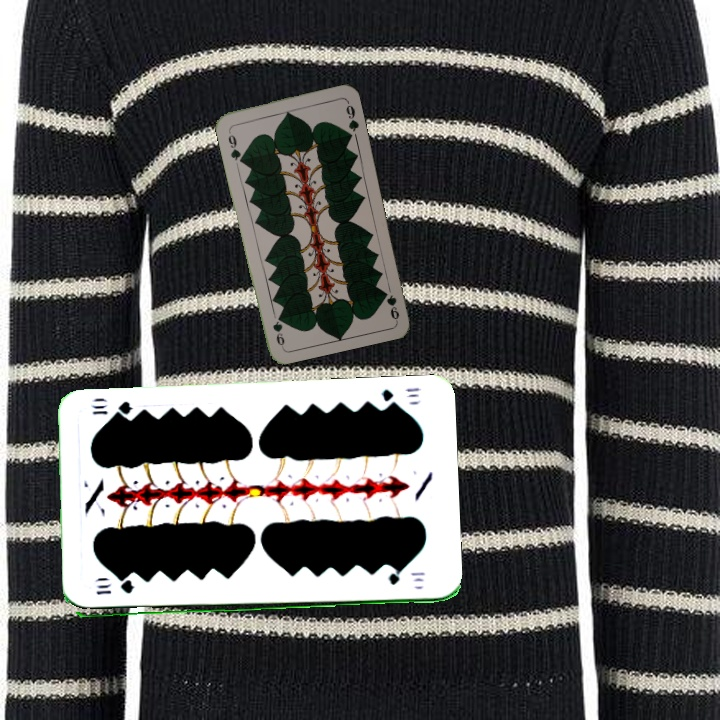G10: (377, 383, 423, 410), (92, 580, 136, 597)
G9: (379, 286, 402, 323), (224, 125, 245, 165)
